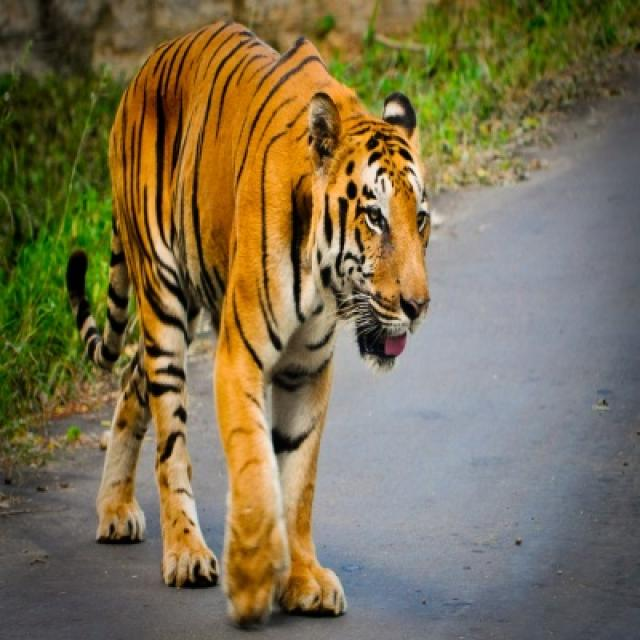Tiger: (67, 16, 436, 615)
